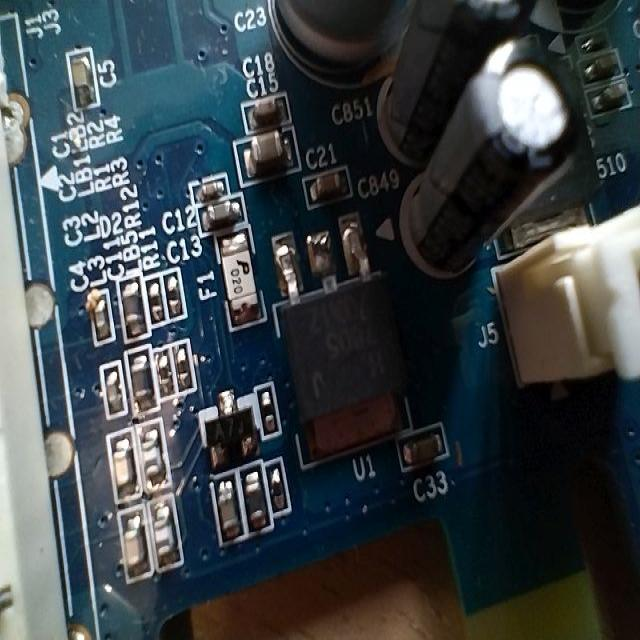capacitor: (207, 474, 248, 541), (115, 515, 154, 585), (62, 43, 102, 107), (110, 437, 142, 507), (399, 429, 455, 466), (190, 164, 234, 207), (200, 194, 242, 239), (305, 168, 340, 212), (581, 47, 628, 77), (101, 367, 129, 417), (598, 73, 628, 118), (251, 138, 292, 160)
resistor: (174, 336, 197, 400), (264, 466, 293, 516), (259, 382, 284, 429), (160, 272, 183, 320), (154, 347, 174, 399), (146, 279, 166, 318)
